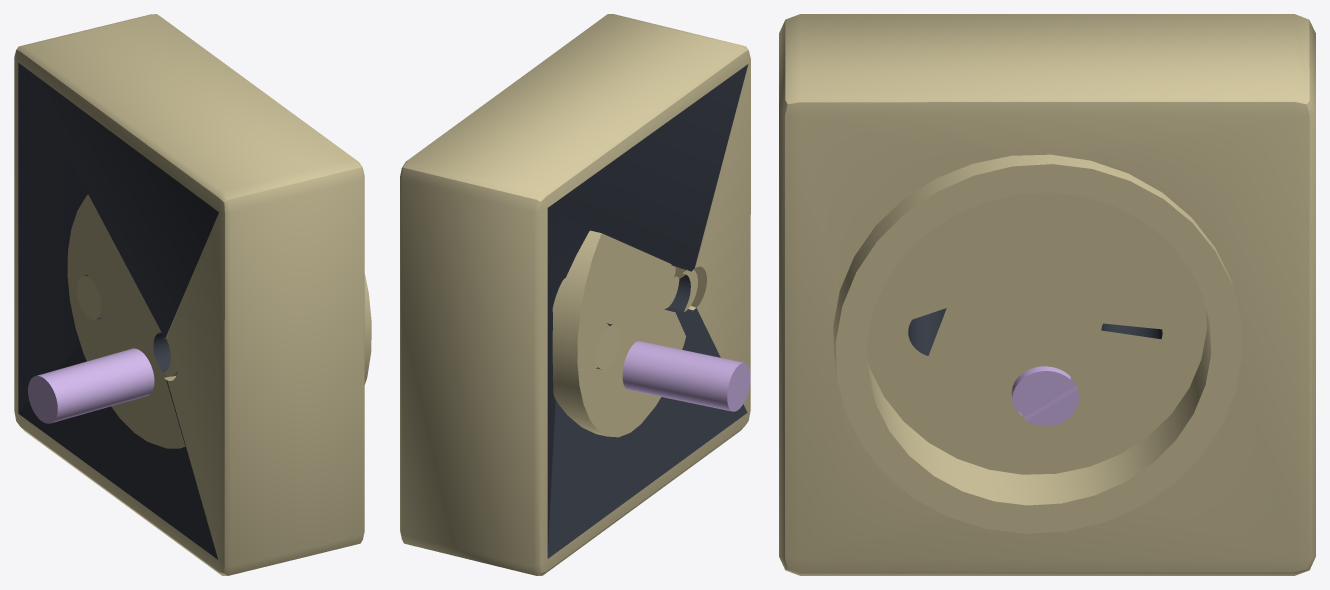
Rendered from РАЗЕТКА.fbx.
The picture shows the model from 3 angles, left to right: view 1: azimuth 30°, elevation 25°; view 2: azimuth 150°, elevation 25°; view 3: azimuth 270°, elevation 25°; orthographic projection. The views are drawn at different scales.
Visible parts, largest first — view 1: Куб.050, Цилиндр.136, Цилиндр.139; view 2: Куб.050, Цилиндр.136, Цилиндр.139; view 3: Куб.050, Цилиндр.136, Цилиндр.139.
Part boxes in pixels (x1,y1,x2,y2): Куб.050: (14,14,364,575); Цилиндр.136: (67,194,371,448); Цилиндр.139: (28,348,154,423); Куб.050: (400,14,750,575); Цилиндр.136: (552,230,685,437); Цилиндр.139: (622,341,750,411); Куб.050: (779,14,1315,575); Цилиндр.136: (833,154,1242,533); Цилиндр.139: (1011,366,1078,426).
Bounding box in the file's own units: 64.99 × 94 × 95.01.
